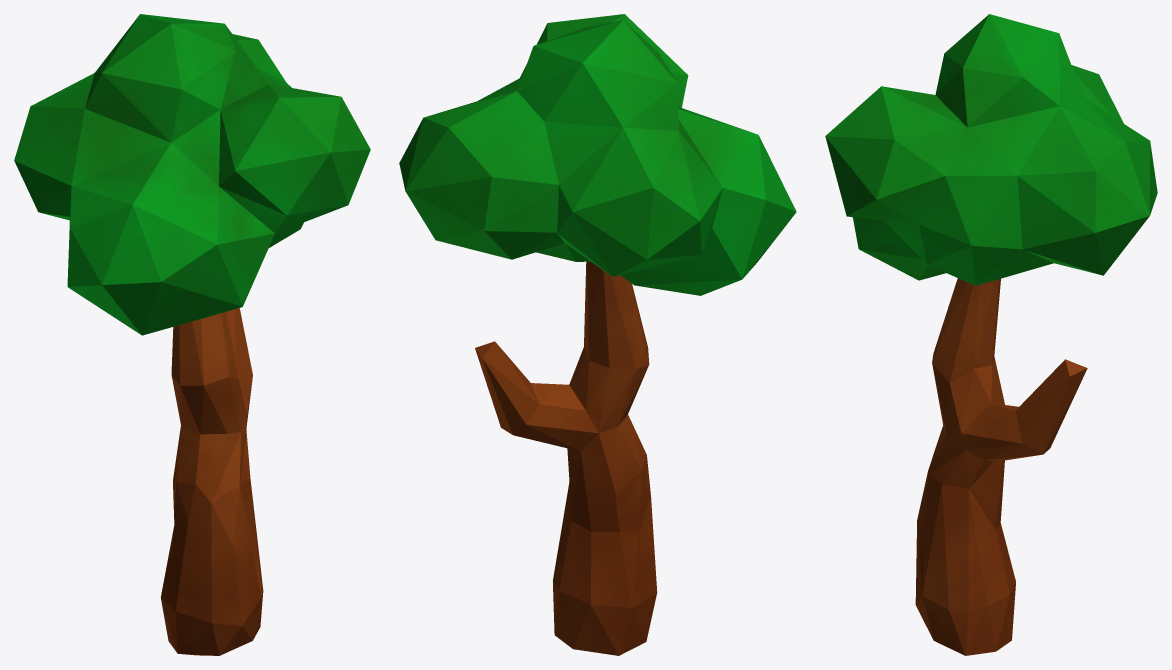
Rendered from tree1.fbx.
The picture shows the model from 3 angles, left to right: view 1: azimuth 30°, elevation 25°; view 2: azimuth 150°, elevation 25°; view 3: azimuth 270°, elevation 25°; orthographic projection. The views are drawn at different scales.
Visible parts, largest first — view 1: baum; view 2: baum; view 3: baum.
Part boxes in pixels (left/top/right/bottom): baum: left=14, top=14, right=370, bottom=655; baum: left=399, top=14, right=796, bottom=655; baum: left=825, top=14, right=1157, bottom=655.
Bounding box in the file's own units: 386 × 804 × 394.
